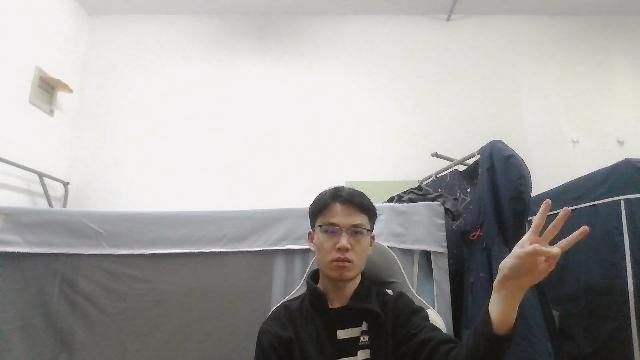three: (491, 198, 590, 295)
